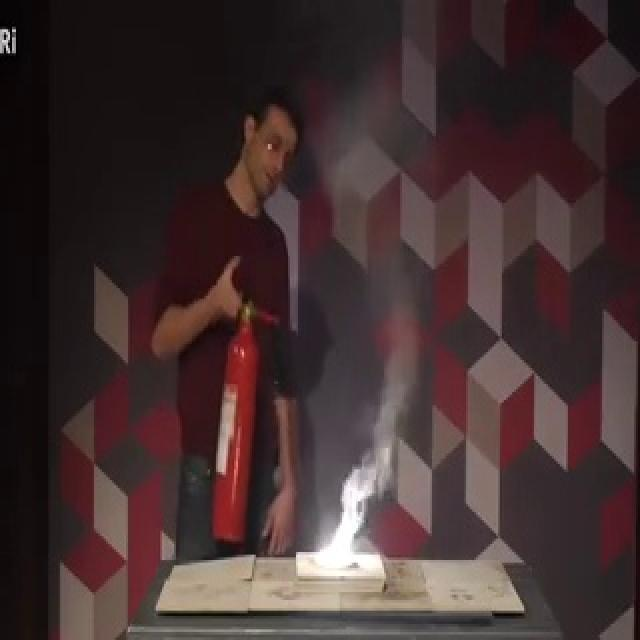fire: (306, 456, 384, 579)
